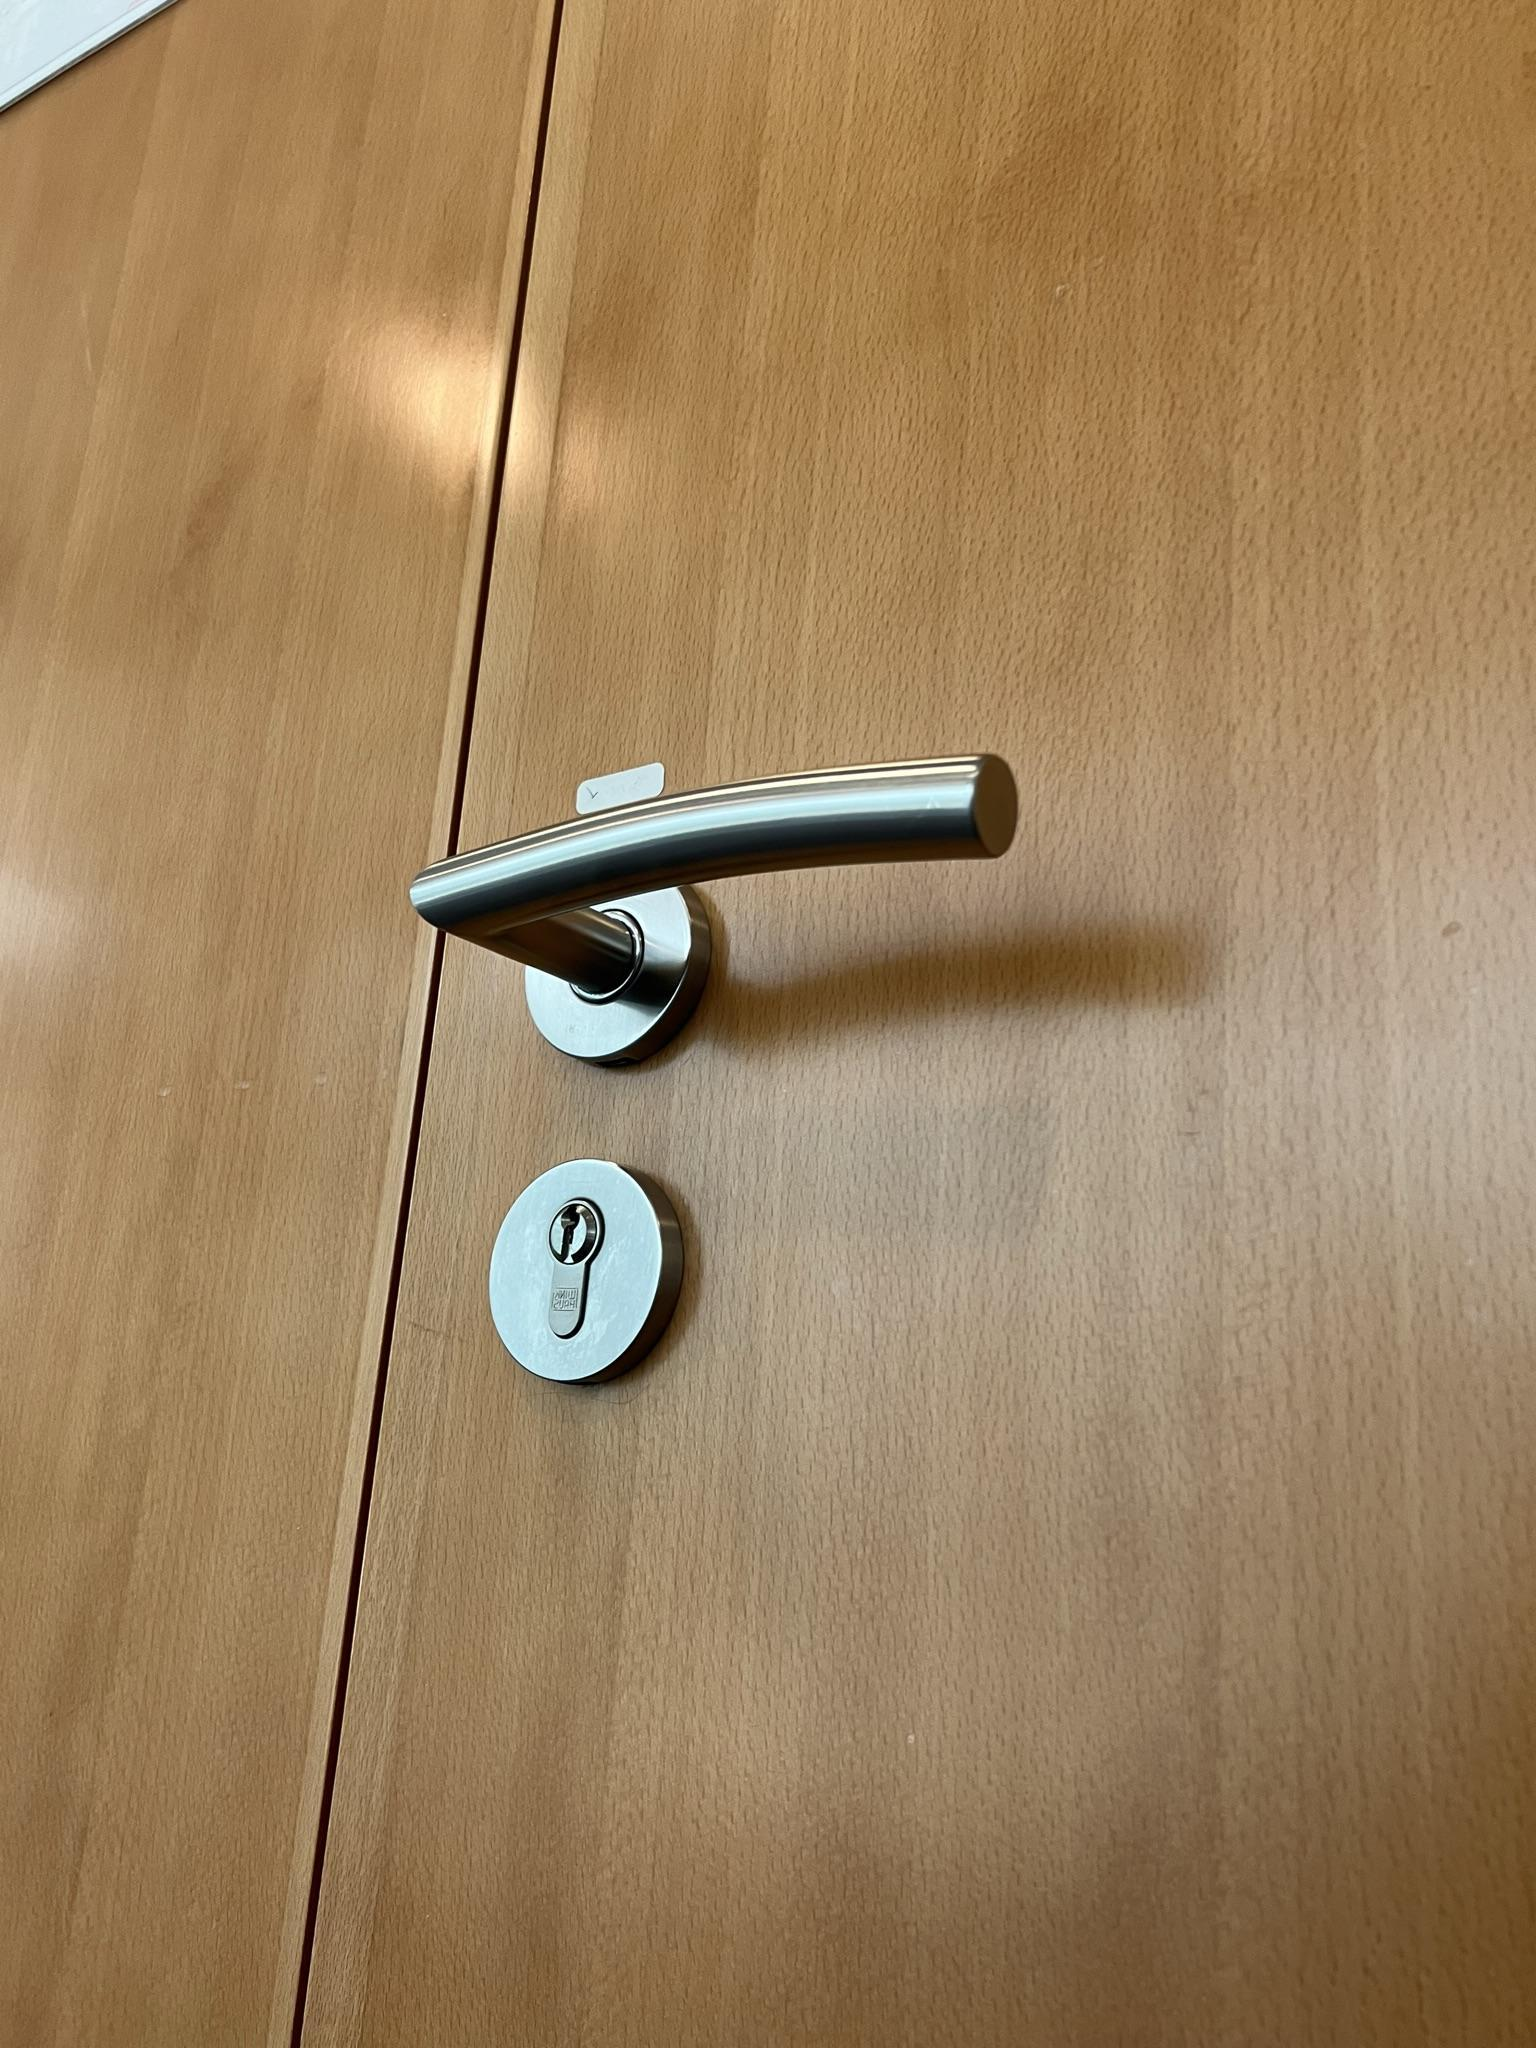door: (457, 6, 1520, 2011)
handle: (390, 716, 1044, 1090)
